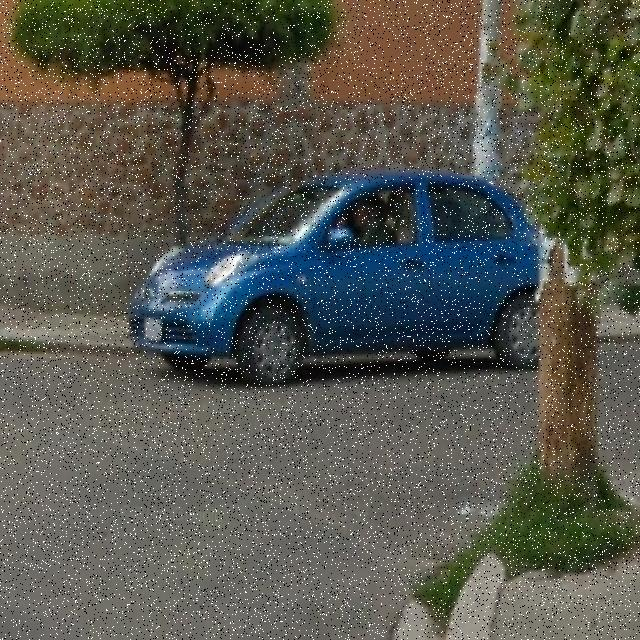cars: (145, 173, 559, 384)
